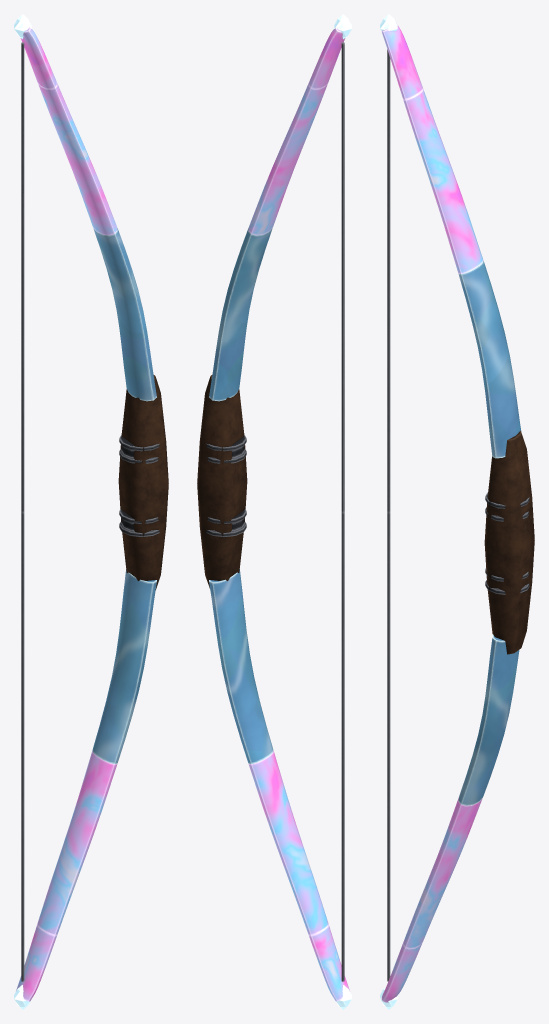
File: crystal-weapon-bow.glb
The picture shows the model from 3 angles, left to right: view 1: azimuth 30°, elevation 25°; view 2: azimuth 150°, elevation 25°; view 3: azimuth 330°, elevation 25°; orthographic projection.
Visible parts, largest first — view 1: riser, lower-inner, lower-mid, upper-inner, upper-mid, string-upper, string-lower, lower-outer, upper-outer, grip-band; view 2: riser, lower-inner, lower-mid, upper-inner, upper-mid, string-upper, string-lower, lower-outer, upper-outer, grip-band; view 3: riser, upper-inner, upper-mid, lower-inner, lower-mid, string-lower, string-upper, upper-outer, lower-outer, grip-band.
Part boxes in pixels (box(x1,y1,x2,y2)): riser: box(118, 375, 168, 589); lower-inner: box(92, 569, 156, 763); lower-mid: box(37, 751, 117, 935); upper-inner: box(93, 227, 156, 401); upper-mid: box(38, 83, 117, 235); string-upper: box(21, 42, 24, 512); string-lower: box(21, 512, 24, 981); lower-outer: box(16, 925, 56, 1001); upper-outer: box(20, 27, 57, 89); grip-band: box(119, 435, 159, 536); riser: box(197, 375, 247, 588); lower-inner: box(209, 569, 273, 763); lower-mid: box(248, 751, 328, 935); upper-inner: box(209, 227, 272, 401); upper-mid: box(248, 83, 327, 235); string-upper: box(341, 42, 344, 512); string-lower: box(341, 512, 344, 981); lower-outer: box(309, 925, 349, 1001); upper-outer: box(308, 27, 345, 89); grip-band: box(206, 435, 246, 536); riser: box(484, 431, 534, 654); upper-inner: box(458, 260, 521, 458); upper-mid: box(403, 89, 483, 273); lower-inner: box(458, 634, 519, 805); lower-mid: box(403, 797, 482, 948); string-lower: box(387, 512, 390, 981); string-upper: box(387, 49, 390, 512); upper-outer: box(381, 22, 423, 99); lower-outer: box(381, 942, 422, 1002); grip-band: box(485, 492, 529, 594).
Bounding box in the file's own units: 0.287 × 1.86 × 0.08.
Materials: 12 (12 with a texture image).
